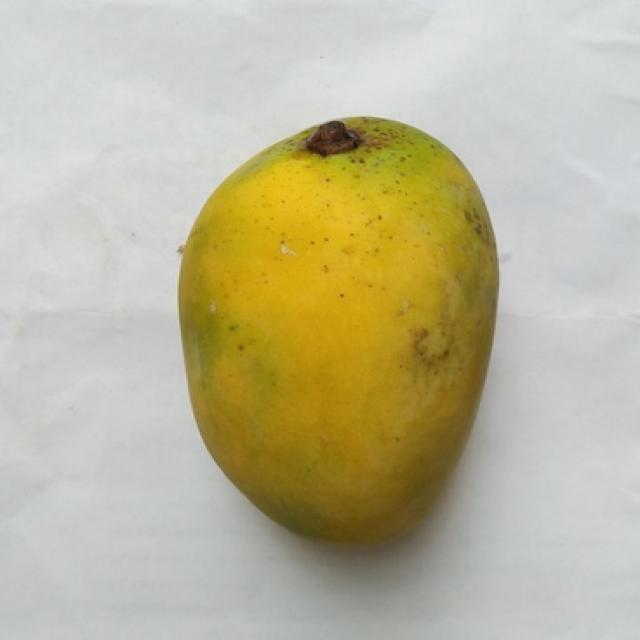Mango: (179, 118, 494, 542)
